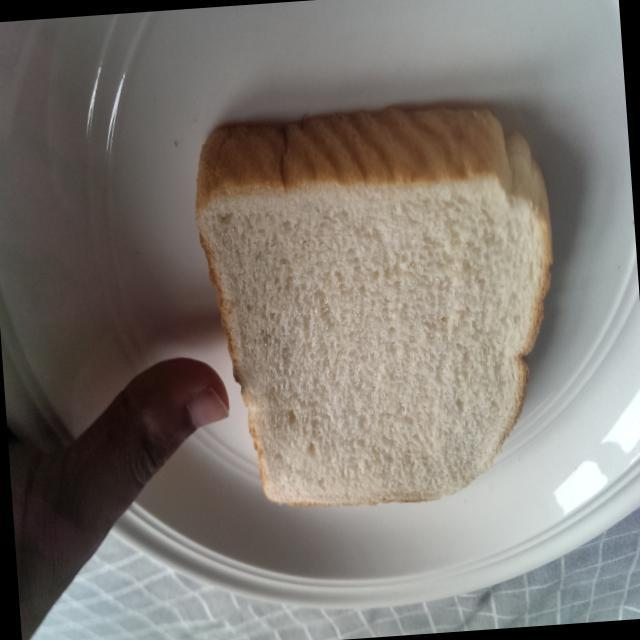Bread: (189, 88, 577, 524)
Finger: (123, 343, 240, 508)
